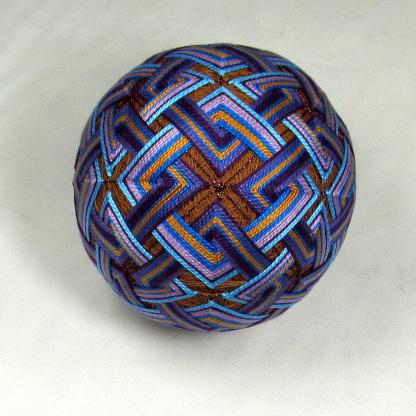Ball: (75, 44, 360, 334)
